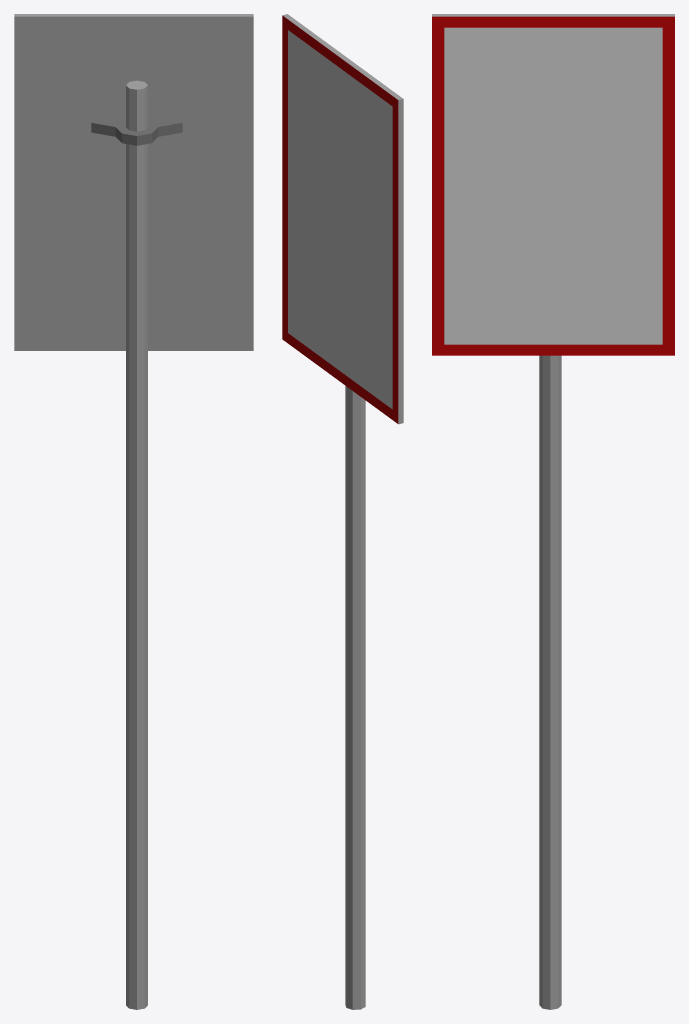
The model's file is Znak_V2.fbx.
3 views of the same model, side by side, from view 1: azimuth 90°, elevation 25°; view 2: azimuth 210°, elevation 25°; view 3: azimuth 270°, elevation 25° (orthographic). The views are drawn at different scales.
Visible parts, largest first — view 1: Znak_V2; view 2: Znak_V2; view 3: Znak_V2.
Part boxes in pixels (<box>): Znak_V2: <box>14,14,253,1009</box>; Znak_V2: <box>282,14,403,1009</box>; Znak_V2: <box>432,14,674,1009</box>.
Bounding box in the file's own units: 0.1719 × 4.53 × 1.
